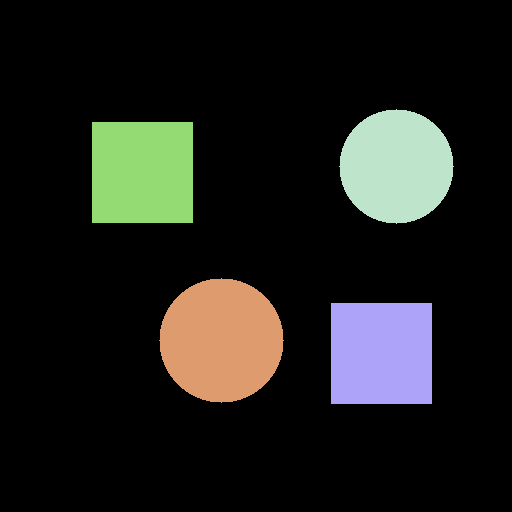circle: (159, 278, 283, 402), (339, 109, 453, 223)
square: (331, 303, 431, 403), (92, 122, 192, 222)
